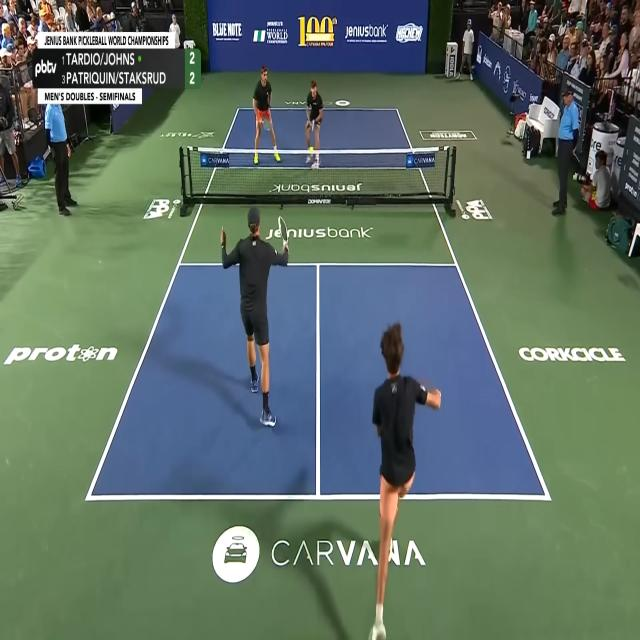ball: (309, 146, 314, 152)
